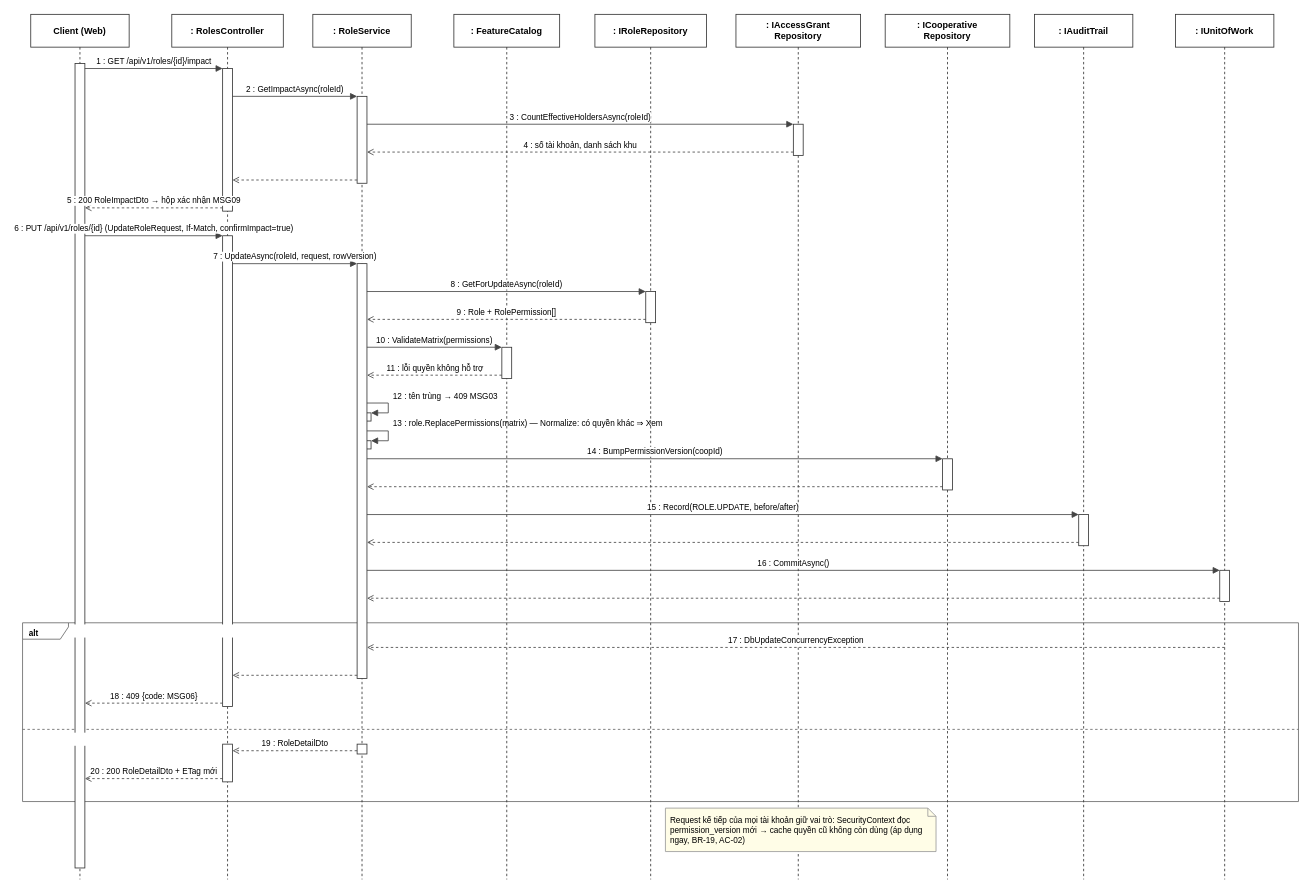
The diagram is 1313 pixels wide and 894 high, and some of its shapes have lost their labels. The shapes that lost their labels are listed below. From the top down, each one's centre as x and y in pixels, then its label:
pixel 167 630: [rowversion đã đổi (người khác vừa lưu)]
pixel 58 738: [thành công]
